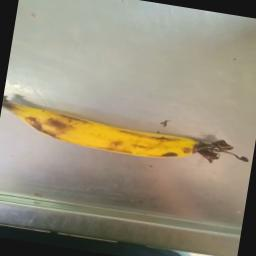Banana Unripe: (2, 101, 249, 164)
